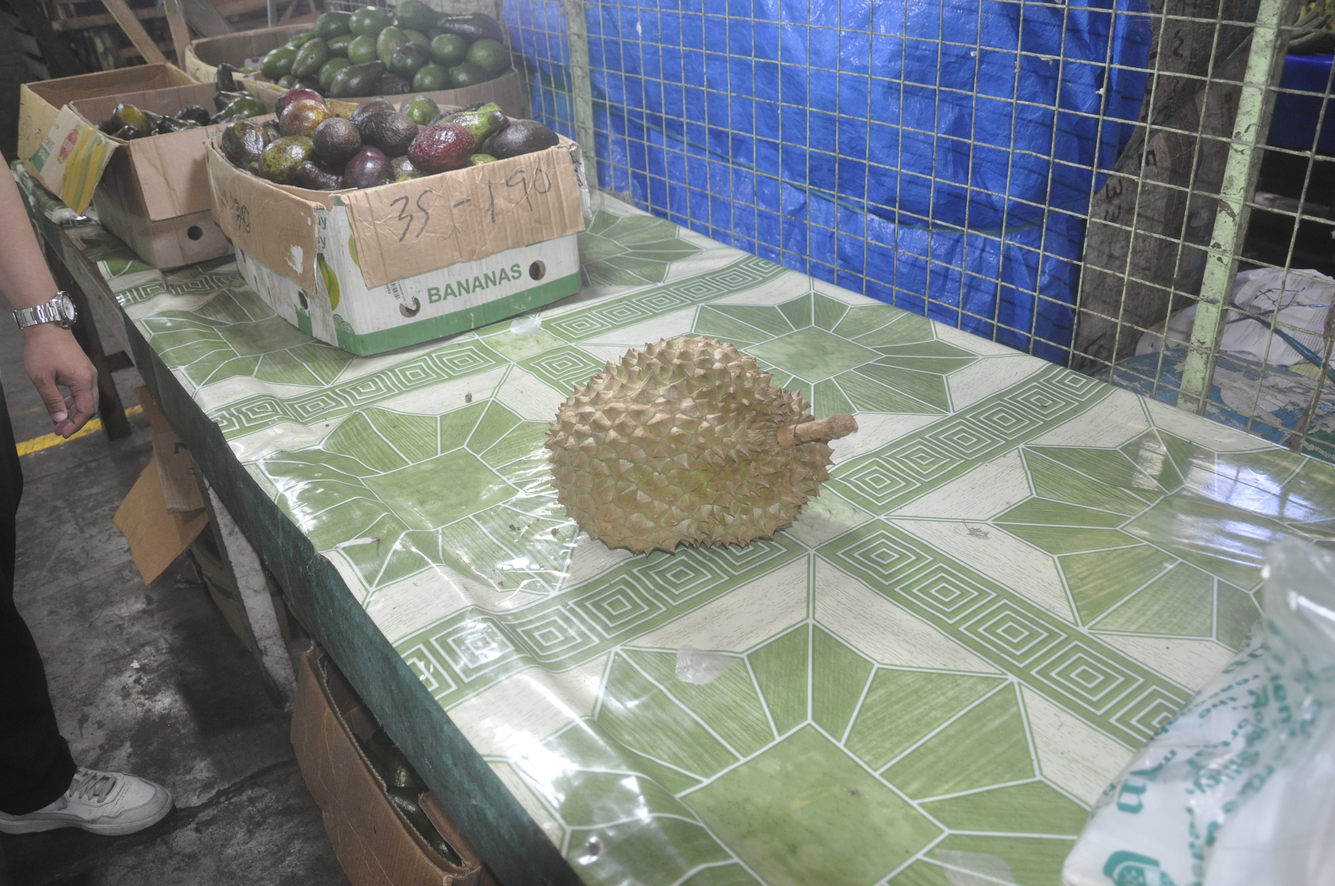mature: (545, 337, 858, 552)
